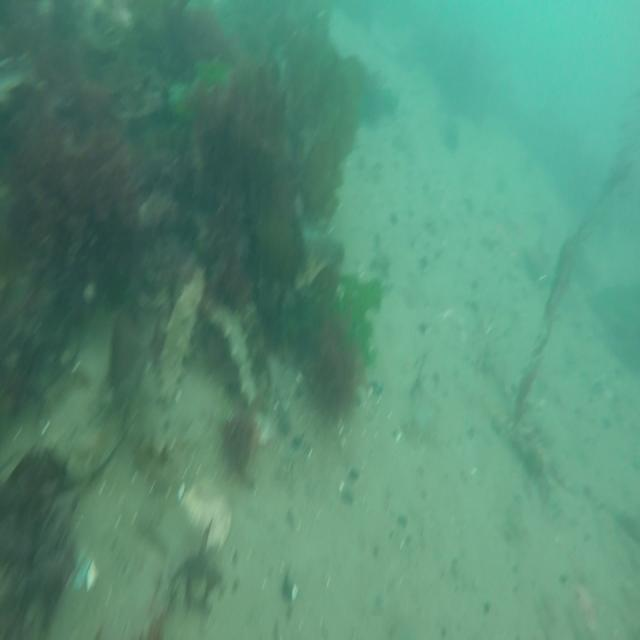holothurian: (205, 290, 257, 412), (156, 271, 202, 403)
